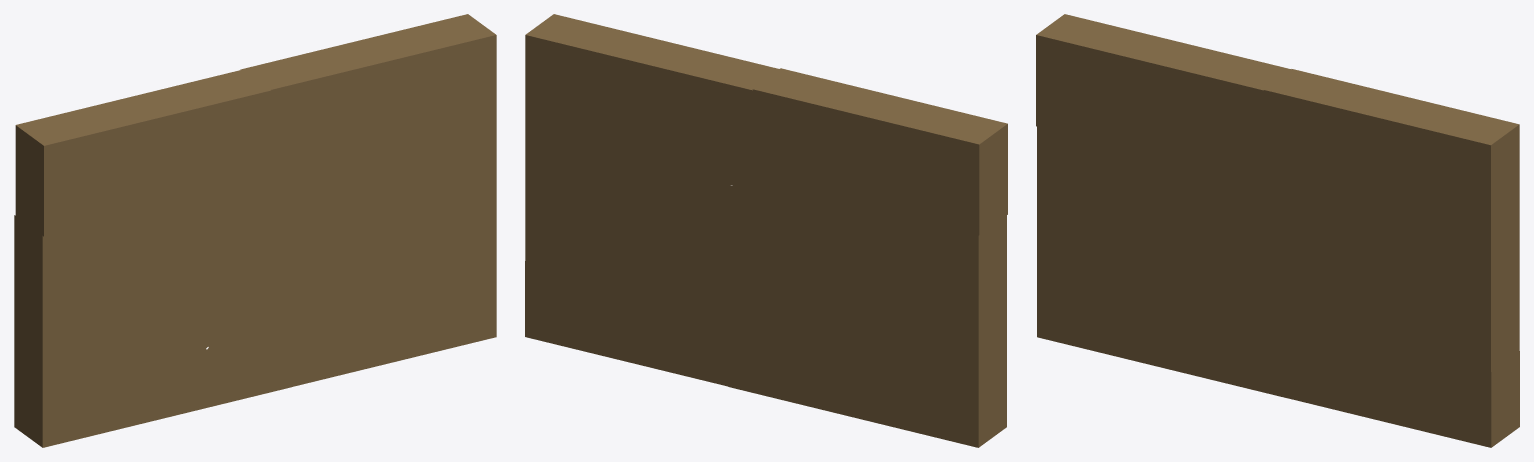
File: breakable wall.fbx
3 renders of one model, left to right at view 1: azimuth 30°, elevation 25°; view 2: azimuth 150°, elevation 25°; view 3: azimuth 330°, elevation 25°, orthographic.
Visible parts, largest first — view 1: breakable_wall_upper_right, Breakable_wall_upper_left, breakable_wall_lower_left, breakable_wall_lower_right, breakable_wall_center; view 2: breakable_wall_upper_right, Breakable_wall_upper_left, breakable_wall_lower_left, breakable_wall_lower_right, breakable_wall_center; view 3: breakable_wall_upper_right, Breakable_wall_upper_left, breakable_wall_lower_right, breakable_wall_lower_left, breakable_wall_center.
Part boxes in pixels (x1=…): breakable_wall_upper_right: x1=240, y1=14, x2=496, y2=261; Breakable_wall_upper_left: x1=15, y1=69, x2=283, y2=278; breakable_wall_lower_left: x1=14, y1=215, x2=306, y2=447; breakable_wall_lower_right: x1=271, y1=176, x2=496, y2=386; breakable_wall_center: x1=144, y1=178, x2=358, y2=369; breakable_wall_upper_right: x1=525, y1=14, x2=778, y2=260; Breakable_wall_upper_left: x1=741, y1=68, x2=1007, y2=276; breakable_wall_lower_left: x1=714, y1=215, x2=1006, y2=447; breakable_wall_lower_right: x1=525, y1=175, x2=750, y2=386; breakable_wall_center: x1=660, y1=178, x2=898, y2=363; breakable_wall_upper_right: x1=1251, y1=69, x2=1519, y2=372; Breakable_wall_upper_left: x1=1036, y1=14, x2=1291, y2=217; breakable_wall_lower_right: x1=1274, y1=240, x2=1519, y2=447; breakable_wall_lower_left: x1=1037, y1=127, x2=1300, y2=397; breakable_wall_center: x1=1138, y1=178, x2=1353, y2=353.
Size of the model in its own units: 23.13 by 14.75 by 2.69.
